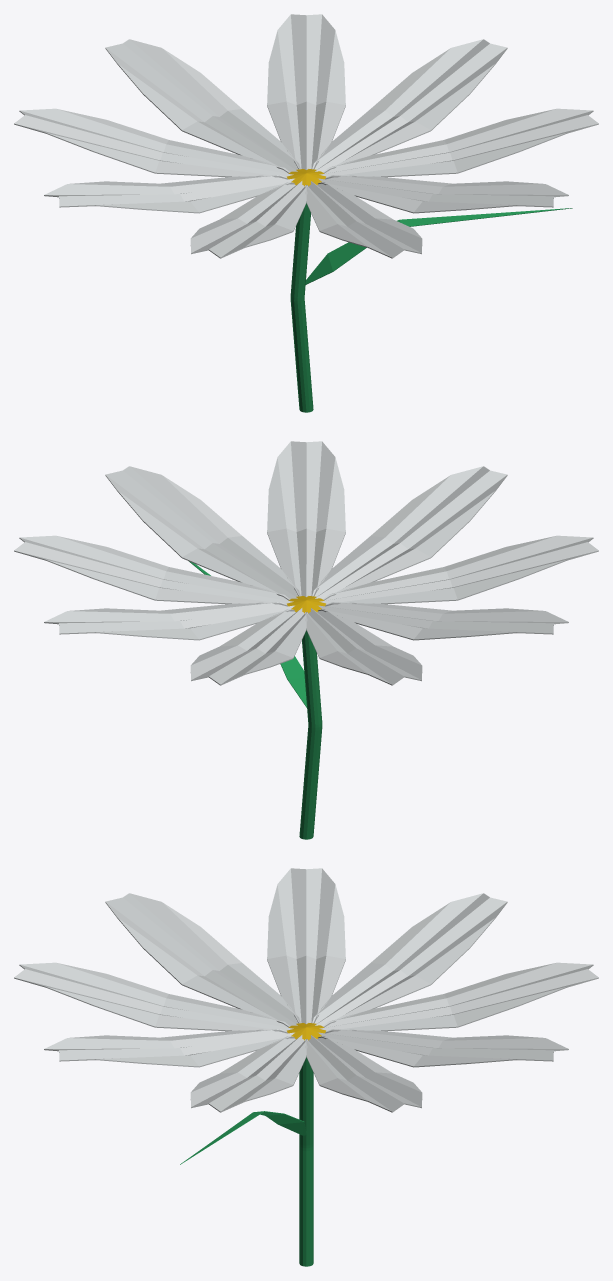
The model's file is Flower_3.fbx.
3 views of the same model, one above another, from view 1: azimuth 30°, elevation 25°; view 2: azimuth 150°, elevation 25°; view 3: azimuth 270°, elevation 25° (orthographic).
Visible parts, largest first — view 1: Flower_3; view 2: Flower_3; view 3: Flower_3.
Boxes of the visible parts, box(x1,y1,x2,y2) form: Flower_3: box(14, 14, 598, 412); Flower_3: box(14, 441, 598, 839); Flower_3: box(14, 868, 598, 1266).
Size of the model in its own units: 600 by 315 by 609.
